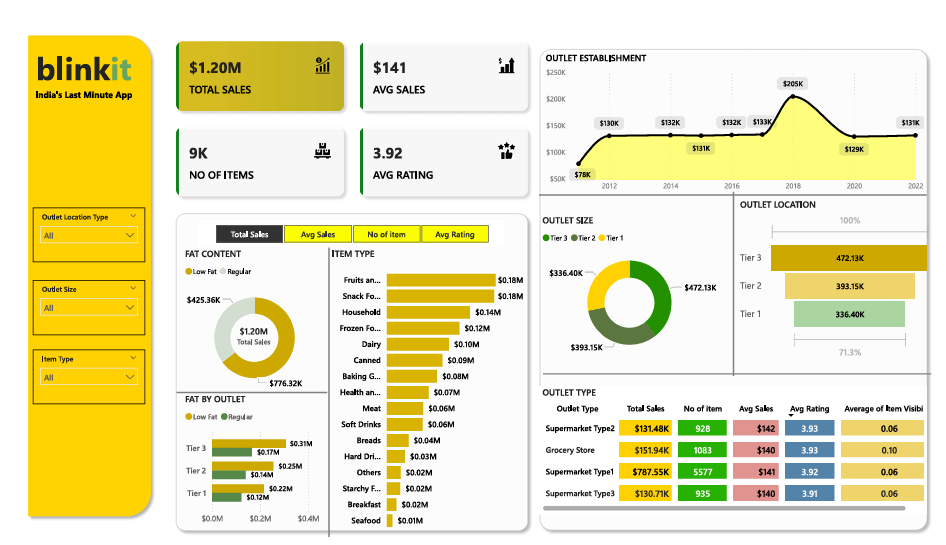

What the dashboard file says about the page in this screenshot:
{"tool":"powerbi","page":{"name":"Page 1","canvas":[1400,800],"ordinal":0},"visuals":[{"type":"shape","box":[12.9,9.2,205,750],"z":0},{"type":"textbox","box":[29.4,29.4,161.7,84.5],"z":1000},{"type":"textbox","box":[27.6,93.7,172.7,38.6],"z":2000},{"type":"cardVisual","fields":{"Data":["BlinkIT Grocery Data.Total Sales","BlinkIT Grocery Data.Avg Sales","BlinkIT Grocery Data.No of item","BlinkIT Grocery Data.Avg Rating"]},"box":[230.4,9.6,569.6,270.4],"z":3000},{"type":"shape","box":[238.4,280,553.6,500.8],"z":4000},{"type":"donutChart","title":"FAT CONTENT","fields":{"Y":["BlinkIT Grocery Data.Total Sales"],"Category":["BlinkIT Grocery Data.Item Fat Content"]},"box":[256,340.8,220.8,230.4],"z":5000},{"type":"slicer","fields":{"Values":["Metrics.Metrics"]},"box":[281.7,300,465,40],"z":6000},{"type":"cardVisual","fields":{"Data":["BlinkIT Grocery Data.Total Sales"]},"box":[308.8,441.6,113.6,60.8],"z":7000},{"type":"clusteredBarChart","title":"FAT BY OUTLET","fields":{"Y":["BlinkIT Grocery Data.Total Sales"],"Category":["BlinkIT Grocery Data.Outlet Location Type"],"Series":["BlinkIT Grocery Data.Item Fat Content"]},"box":[256,561.6,220.8,209.6],"z":8000},{"type":"shape","box":[248,552,228.8,19.2],"z":9000},{"type":"shape","box":[395.2,340.8,169.6,440],"z":10000},{"type":"barChart","title":"ITEM TYPE ","fields":{"Y":["BlinkIT Grocery Data.Total Sales"],"Category":["BlinkIT Grocery Data.Item Type"]},"box":[480,340.8,300.8,440],"z":11000},{"type":"shape","box":[791.7,30,608.3,750],"z":12000},{"type":"lineChart","title":"OUTLET ESTABLISHMENT","fields":{"Y":["BlinkIT Grocery Data.Total Sales"],"Category":["BlinkIT Grocery Data.Outlet Establishment Year"]},"box":[805,43.3,585,221.7],"z":13000},{"type":"shape","box":[800,256,590.4,9.6],"z":13001},{"type":"donutChart","title":"OUTLET SIZE","fields":{"Y":["BlinkIT Grocery Data.Total Sales"],"Category":["BlinkIT Grocery Data.Outlet Location Type"]},"box":[800,289.6,275,225],"z":13002},{"type":"shape","box":[1011.2,256,169.6,280],"z":13003},{"type":"funnel","title":"OUTLET LOCATION","fields":{"Y":["Sum(BlinkIT Grocery Data.Sales)"],"Category":["BlinkIT Grocery Data.Outlet Location Type"]},"box":[1100.8,265.6,300.8,249.6],"z":13004},{"type":"shape","box":[806.4,528,590.4,9.6],"z":13005},{"type":"pivotTable","title":"OUTLET TYPE","fields":{"Rows":["BlinkIT Grocery Data.Outlet Type"],"Values":["BlinkIT Grocery Data.Total Sales","BlinkIT Grocery Data.No of item","BlinkIT Grocery Data.Avg Sales","BlinkIT Grocery Data.Avg Rating","Avg(BlinkIT Grocery Data.Item Visibility)"]},"box":[800,552,590.4,195.2],"z":13006},{"type":"slicer","fields":{"Values":["BlinkIT Grocery Data.Outlet Location Type"]},"box":[28.8,280,171.2,83.2],"z":13007},{"type":"slicer","fields":{"Values":["BlinkIT Grocery Data.Outlet Size"]},"box":[28.8,390.4,171.2,83.2],"z":13008},{"type":"slicer","fields":{"Values":["BlinkIT Grocery Data.Item Type"]},"box":[28.8,496,171.2,83.2],"z":13009}]}

Visuals, with their boxes in screenshot pixels (x1, y1, x2, y2), scaled from the page's 1400x800 canvas onto the 946x545 screenshot:
shape: 9,6,147,517
textbox: 20,20,129,78
textbox: 19,64,135,90
cardVisual - BlinkIT Grocery Data.Total Sales x BlinkIT Grocery Data.Avg Sales: 156,7,541,191
shape: 161,191,535,532
"FAT CONTENT" donutChart: 173,232,322,389
slicer - Metrics.Metrics: 190,204,505,232
cardVisual - BlinkIT Grocery Data.Total Sales: 209,301,285,342
"FAT BY OUTLET" clusteredBarChart: 173,383,322,525
shape: 168,376,322,389
shape: 267,232,382,532
"ITEM TYPE " barChart: 324,232,528,532
shape: 535,20,945,531
"OUTLET ESTABLISHMENT" lineChart: 544,29,939,181
shape: 541,174,940,181
"OUTLET SIZE" donutChart: 541,197,726,351
shape: 683,174,798,365
"OUTLET LOCATION" funnel: 744,181,945,351
shape: 545,360,944,366
"OUTLET TYPE" pivotTable: 541,376,940,509
slicer - BlinkIT Grocery Data.Outlet Location Type: 19,191,135,247
slicer - BlinkIT Grocery Data.Outlet Size: 19,266,135,323
slicer - BlinkIT Grocery Data.Item Type: 19,338,135,395
